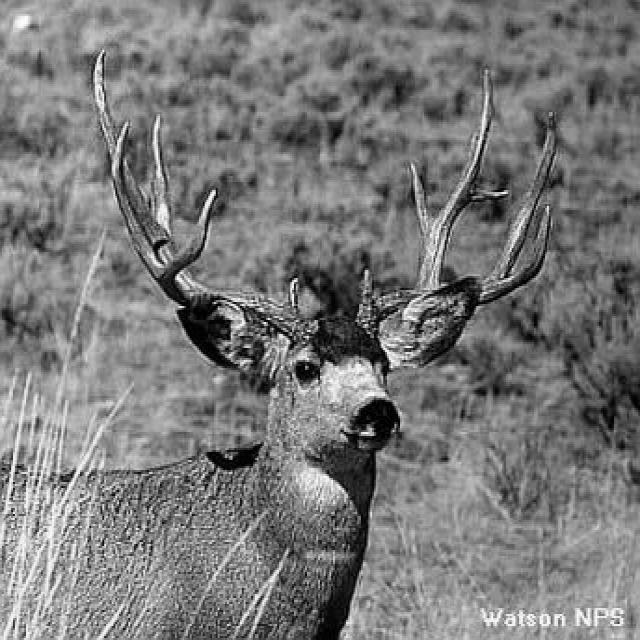Deer: (0, 86, 488, 638)
